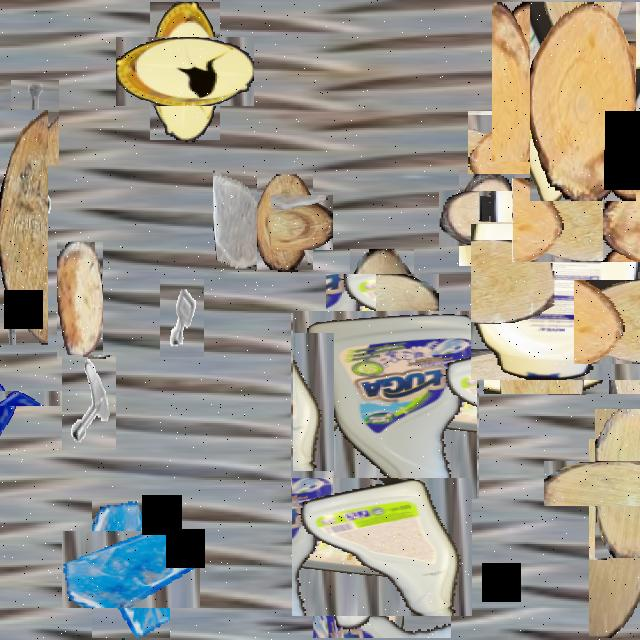glass: (77, 515, 185, 623), (213, 164, 271, 266), (0, 362, 43, 433)
metal: (0, 176, 61, 286), (62, 356, 116, 452), (11, 80, 59, 165), (160, 279, 204, 357)
plastic: (292, 312, 478, 499), (477, 216, 640, 387), (302, 468, 462, 627), (522, 55, 640, 228), (347, 386, 413, 602), (133, 19, 237, 123)
wood: (530, 2, 636, 201), (492, 2, 574, 162), (526, 164, 638, 277), (0, 110, 48, 345), (589, 439, 640, 638), (338, 262, 427, 351), (569, 434, 640, 532), (247, 184, 323, 260), (449, 180, 525, 256), (57, 242, 103, 359)
